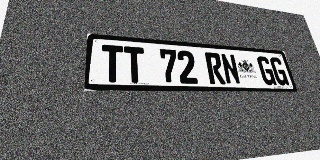2: (176, 50, 198, 84)
7: (158, 49, 180, 84)
G: (256, 56, 277, 85), (269, 57, 290, 85)
N: (220, 53, 241, 85)
R: (204, 52, 226, 84)
T: (101, 44, 124, 83), (124, 46, 145, 83)
